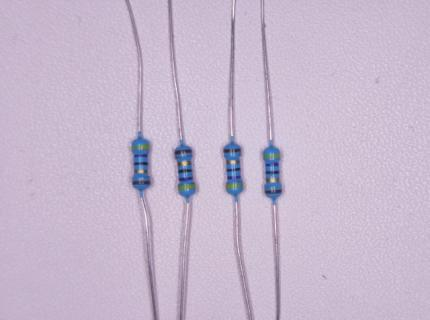Black band: (134, 162, 148, 166), (227, 168, 241, 172), (179, 169, 191, 173), (266, 171, 279, 174)
Brown band: (175, 149, 192, 155), (265, 189, 282, 194), (133, 181, 151, 185), (224, 149, 241, 153)
Gold band: (178, 161, 191, 167), (227, 160, 239, 165), (134, 169, 148, 173), (266, 178, 279, 182)
Violet band: (265, 162, 279, 167), (179, 177, 193, 181), (134, 154, 148, 157), (227, 176, 241, 179)
Yellow band: (179, 184, 195, 190), (132, 145, 149, 150), (226, 184, 243, 189), (263, 154, 280, 158)
